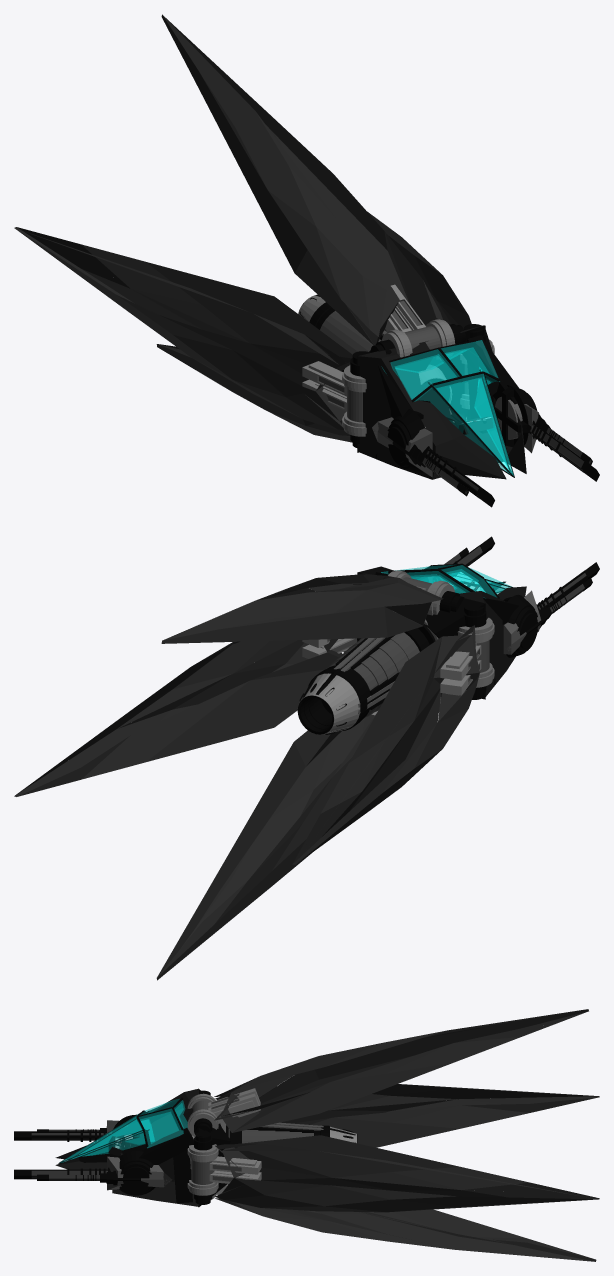
Rendered from kokpit.fbx.
The picture shows the model from 3 angles, top to bottom: view 1: azimuth 30°, elevation 25°; view 2: azimuth 150°, elevation 25°; view 3: azimuth 270°, elevation 25°; orthographic projection. The views are drawn at different scales.
Visible parts, largest first — view 1: Cylinder.069, Cylinder.068, Cube.108, Cube.071, Cylinder.065, Cylinder.070, Cube.092, Cylinder.035, Cylinder.063, Cube.101, Cube.091; view 2: Cylinder.065, Cylinder.068, Cylinder.070, Cylinder.069, Cube.108, Cylinder.094, Cube.071, Cube.101, Cylinder.063, Cylinder.072; view 3: Cylinder.065, Cylinder.069, Cylinder.068, Cylinder.070, Cube.108, Cube.071, Cube.092, Cylinder.042, Cylinder.035, Cube.101, Cylinder.082, Cylinder.066.
Part boxes in pixels (x1,y1,x2,y2): Cylinder.069: (161,14,465,359); Cylinder.068: (14,227,370,447); Cube.108: (358,325,526,479); Cube.071: (383,340,513,475); Cylinder.065: (367,211,494,416); Cylinder.070: (156,344,464,442); Cube.092: (462,335,519,433); Cylinder.035: (526,420,599,481); Cylinder.063: (372,417,432,477); Cube.101: (357,325,485,452); Cube.091: (375,364,412,458); Cylinder.065: (14,584,361,796); Cylinder.068: (292,604,494,864); Cylinder.070: (156,693,441,980); Cylinder.069: (161,570,464,643); Cube.108: (358,566,526,696); Cylinder.094: (299,673,360,734); Cube.071: (381,565,511,596); Cube.101: (357,572,485,699); Cylinder.063: (503,590,540,654); Cylinder.072: (308,668,367,730); Cylinder.065: (187,1131,599,1212); Cylinder.069: (187,1009,588,1136); Cylinder.068: (201,1084,599,1147); Cylinder.070: (211,1184,596,1261); Cube.108: (55,1088,198,1206); Cube.071: (60,1099,187,1162); Cube.092: (139,1128,193,1203); Cylinder.042: (107,1156,172,1190); Cylinder.035: (14,1167,110,1179); Cube.101: (198,1089,230,1207); Cylinder.082: (123,1166,149,1191); Cylinder.066: (119,1150,159,1195).
Size of the model in its own units: 564 by 643 by 1351.
